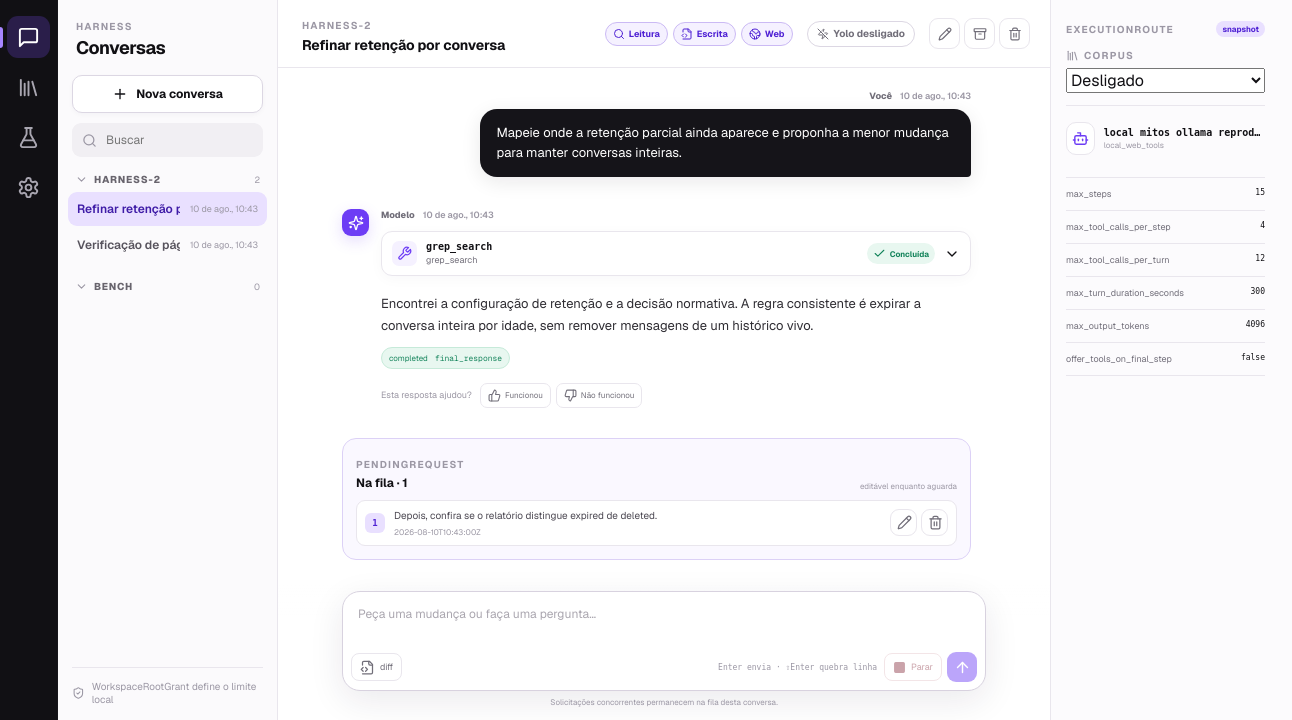
it: App › mostra o consumo da janela de contexto enquanto o turno roda
Check: the heading "Refinar retenção por conversa" is shown, box [302,36,505,54]
Type "Nova solicitação" into the text box named "Solicitação para o Harness" at coordinates (664, 626), box [351,600,977,652]
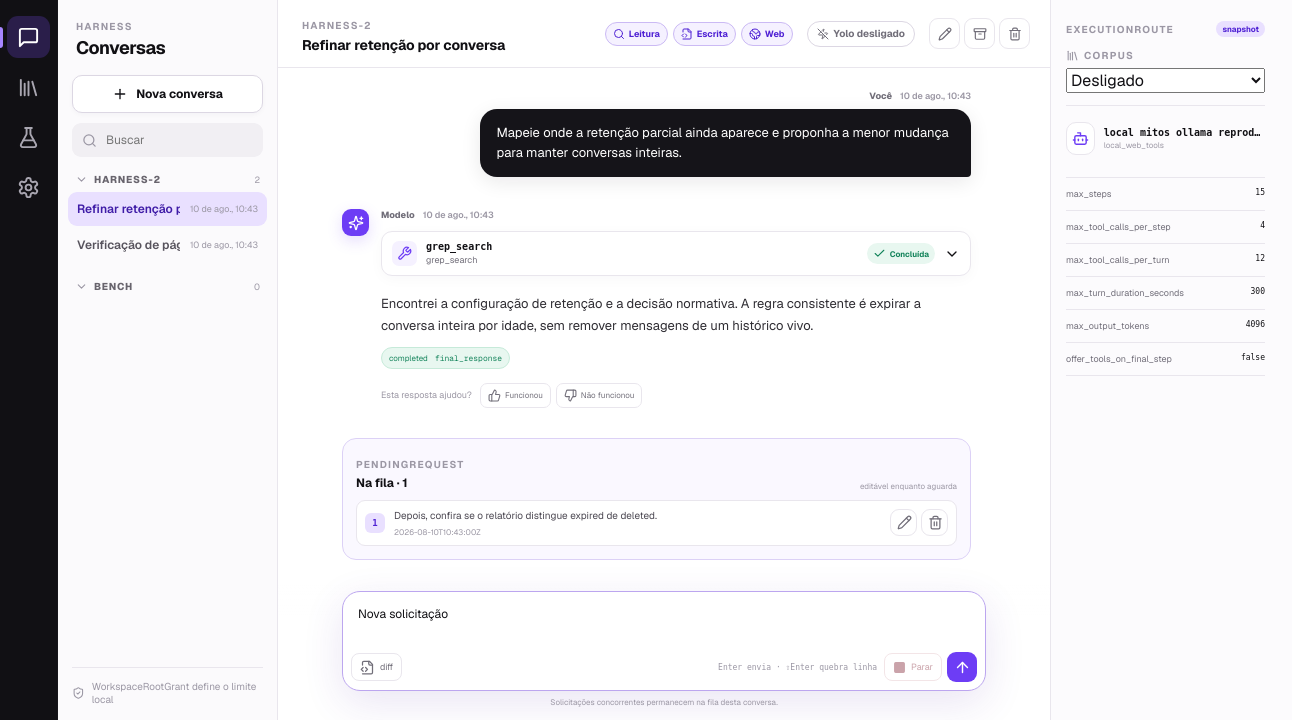
Click the button named "Enviar solicitação" at coordinates (962, 667), box [947,652,977,682]
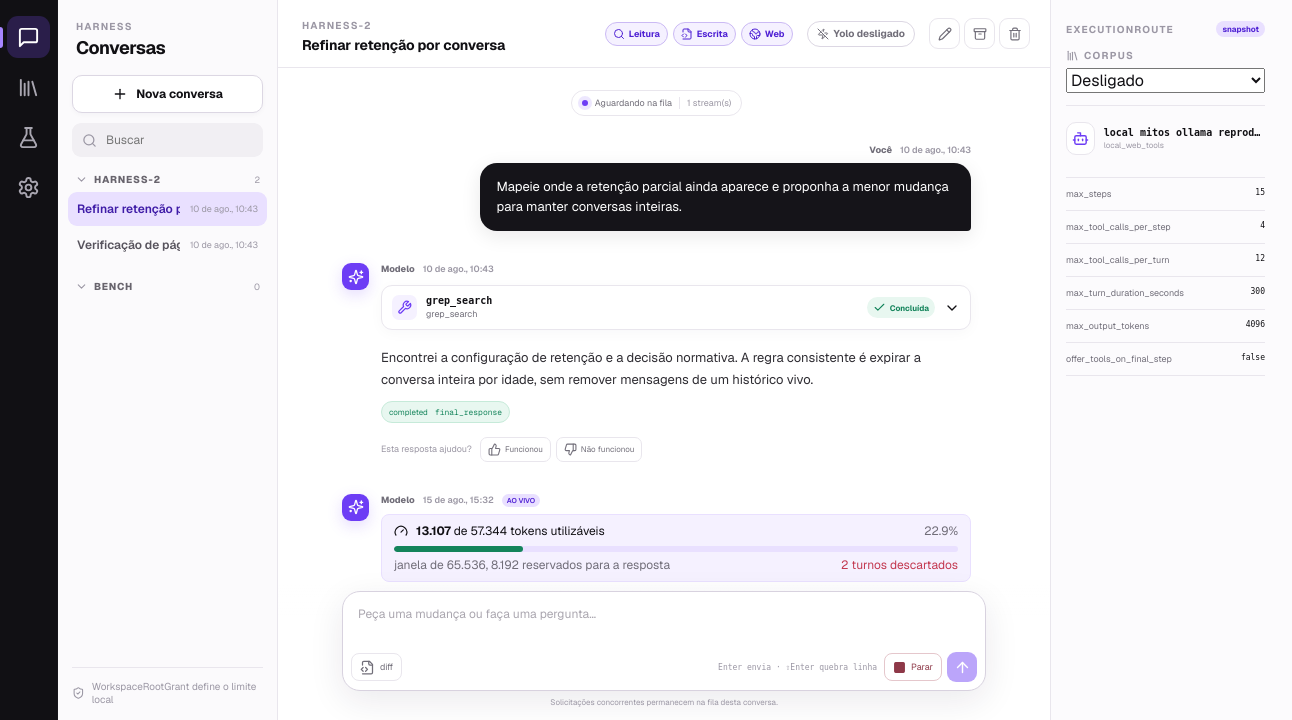
Check: the text "2 turnos descartados" is shown, box [841,557,958,573]
